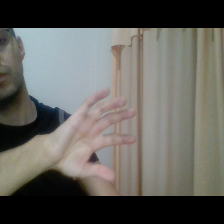left: (40, 86, 139, 184)
